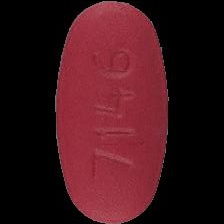55695-028: (0, 0, 224, 224)
